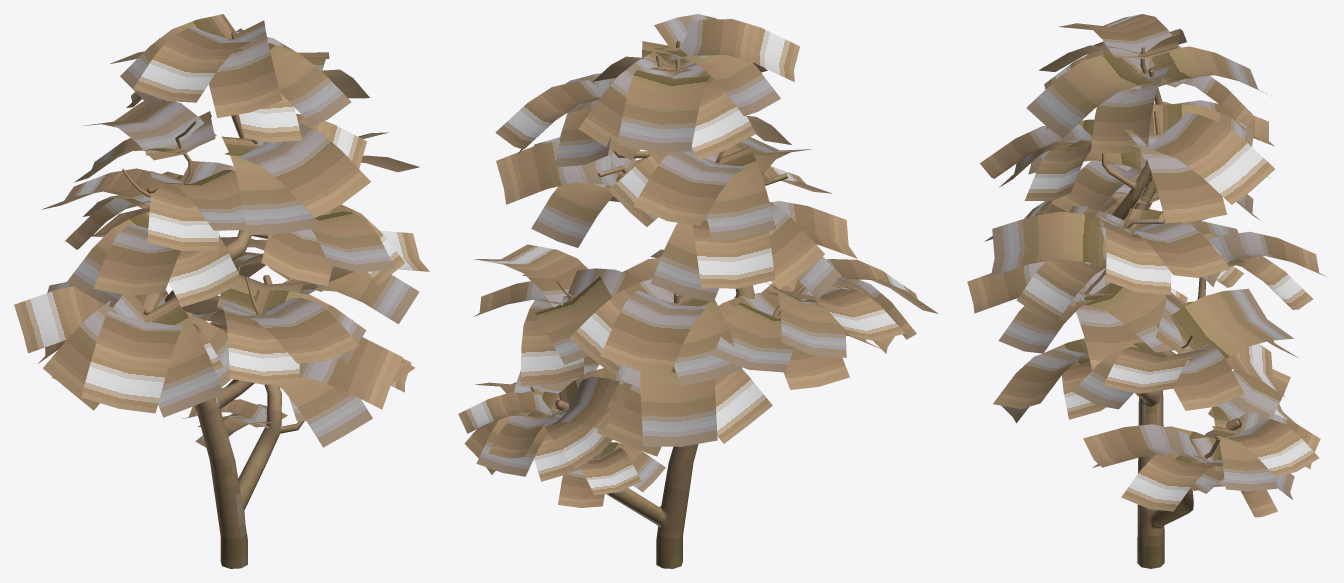
File: test_plants_un_plant02.gltf
3 views of the same model, side by side, from view 1: azimuth 30°, elevation 25°; view 2: azimuth 150°, elevation 25°; view 3: azimuth 270°, elevation 25° (orthographic). The views are drawn at different scales.
Visible parts, largest first — view 1: um_test_plants_un_plant02_model_test_plants_un_plant02_model; view 2: um_test_plants_un_plant02_model_test_plants_un_plant02_model; view 3: um_test_plants_un_plant02_model_test_plants_un_plant02_model.
Boxes of the visible parts, bbox=[...] form: um_test_plants_un_plant02_model_test_plants_un_plant02_model: bbox=[14, 14, 429, 568]; um_test_plants_un_plant02_model_test_plants_un_plant02_model: bbox=[458, 14, 938, 568]; um_test_plants_un_plant02_model_test_plants_un_plant02_model: bbox=[967, 14, 1327, 568].
Bounding box in the file's own units: 1.34 × 1.68 × 1.05.
Materials: 1 (1 with a texture image).
